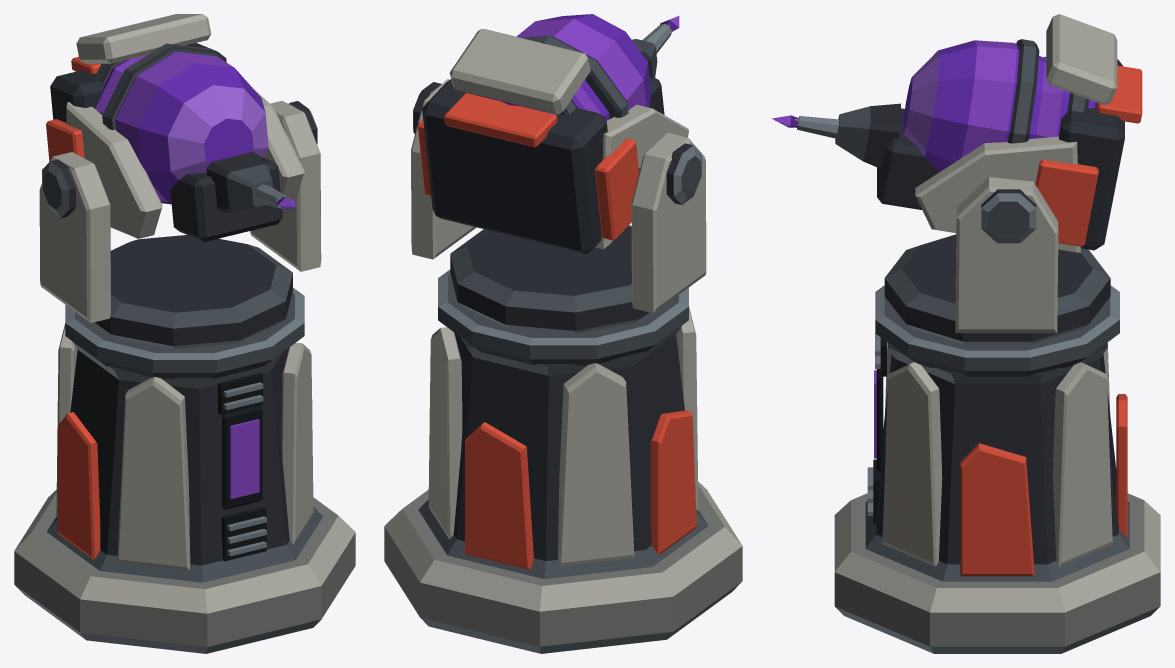
Rendered from lv3_acide.glb.
3 renders of one model, left to right at view 1: azimuth 30°, elevation 25°; view 2: azimuth 150°, elevation 25°; view 3: azimuth 270°, elevation 25°, orthographic. The views are drawn at different scales.
Parts seen in each view (by area): view 1: Base, Barrel_Recoil, Turret_Yaw, Base_TeamColor, Team_Panels; view 2: Base, Barrel_Recoil, Turret_Yaw, Base_TeamColor, Team_Panels; view 3: Base, Barrel_Recoil, Turret_Yaw, Base_TeamColor, Team_Panels.
Part boxes in pixels (box(x1,y1,x2,y2)): Base: box(14, 288, 355, 653); Barrel_Recoil: box(50, 14, 304, 241); Turret_Yaw: box(39, 100, 321, 349); Base_TeamColor: box(57, 400, 312, 559); Team_Panels: box(46, 56, 100, 161); Base: box(384, 269, 742, 653); Barrel_Recoil: box(422, 14, 688, 253); Turret_Yaw: box(411, 79, 706, 334); Base_TeamColor: box(465, 410, 696, 569); Team_Panels: box(417, 93, 639, 240); Base: box(834, 285, 1160, 653); Barrel_Recoil: box(772, 14, 1124, 252); Turret_Yaw: box(884, 177, 1110, 344); Base_TeamColor: box(960, 394, 1127, 576); Team_Panels: box(1035, 65, 1142, 246).
Size of the model in its own units: 1.61 by 3 by 1.92.
